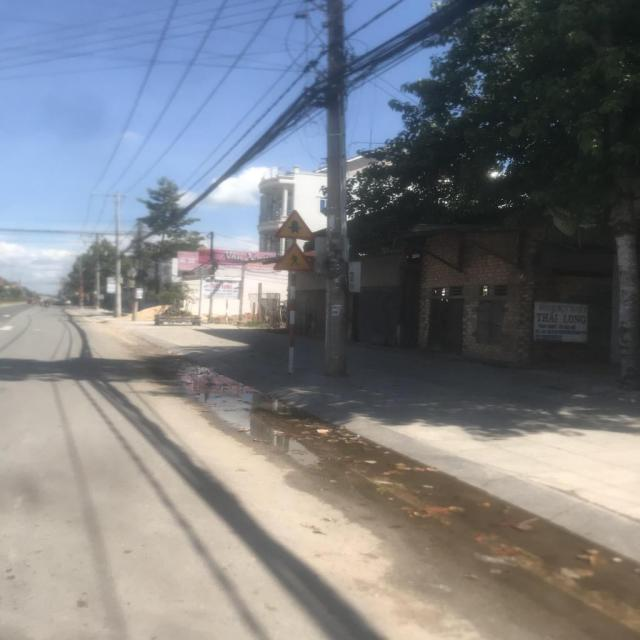chu_y_nguoi_di_bo_cat_ngang: (272, 242, 315, 271)
giao_nhau_voi_duong_khong_uu_tien: (273, 208, 316, 239)
